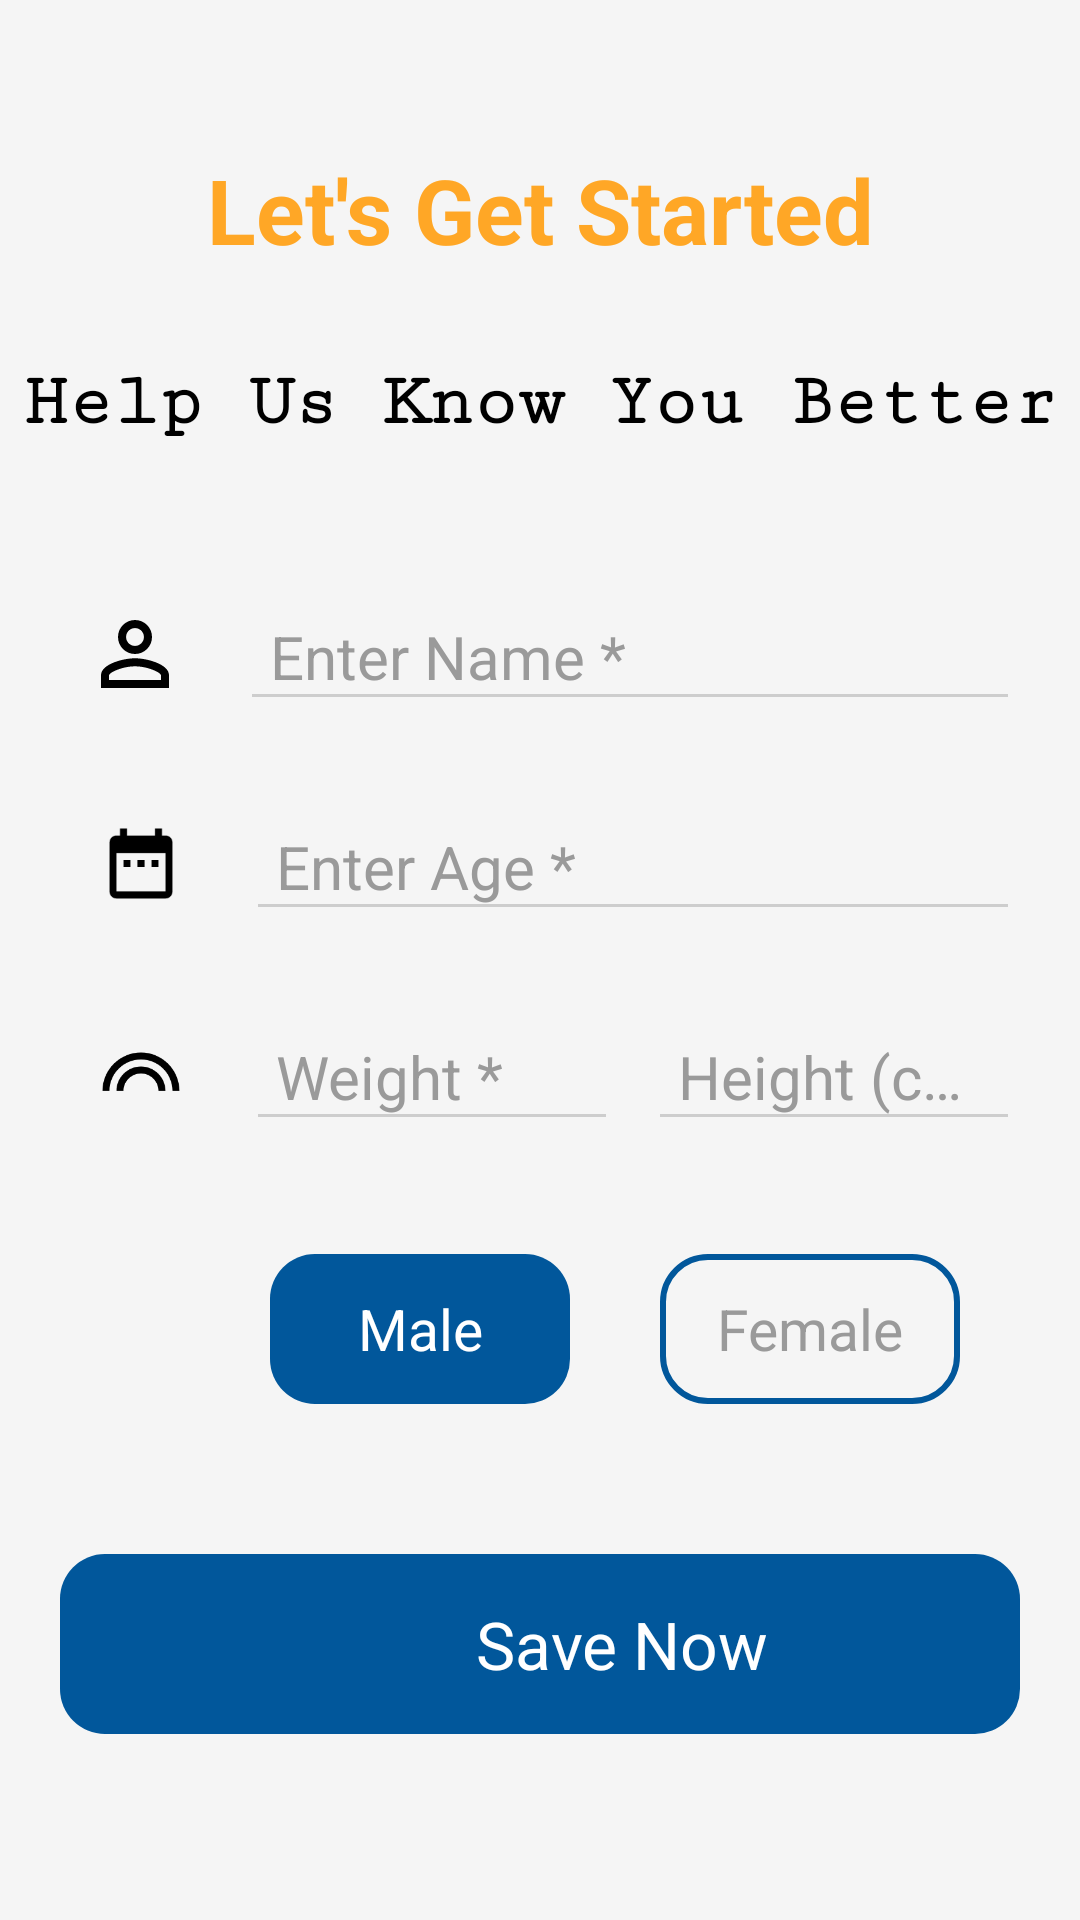

Where icons sit on this 1080px x 1920px app screen, as bbox=[x1, y1, x2, y2]:
age: bbox=[109, 828, 173, 899]
person: bbox=[101, 620, 169, 688]
